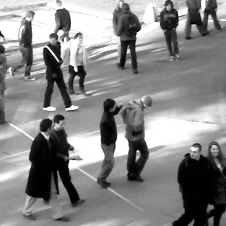person: (23, 118, 68, 220), (172, 143, 215, 226), (53, 114, 86, 207), (40, 32, 78, 112), (120, 95, 154, 182), (95, 96, 123, 190), (10, 9, 38, 79), (67, 28, 93, 97), (116, 3, 140, 75), (206, 141, 226, 226), (160, 1, 183, 63), (48, 1, 73, 39), (184, 1, 208, 38), (203, 1, 224, 32), (1, 54, 9, 122), (111, 1, 126, 36)
